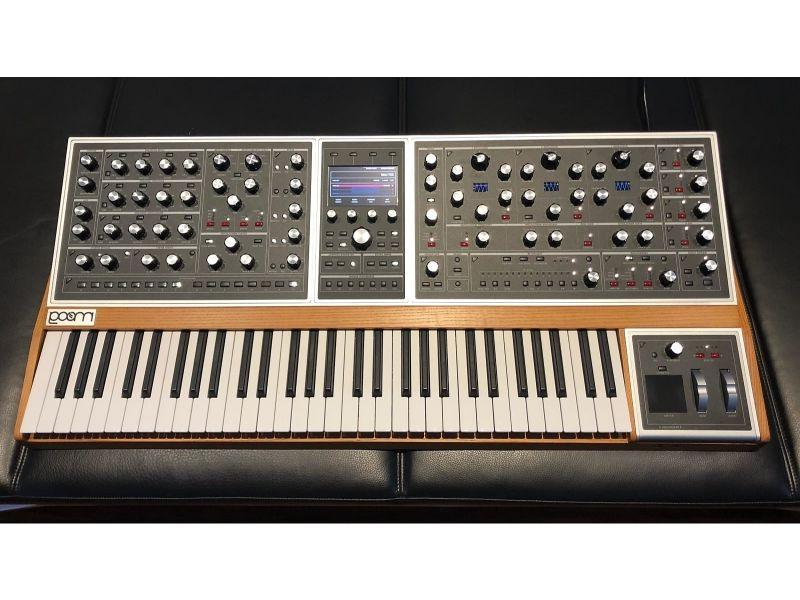synthesizer: (19, 124, 775, 455)
